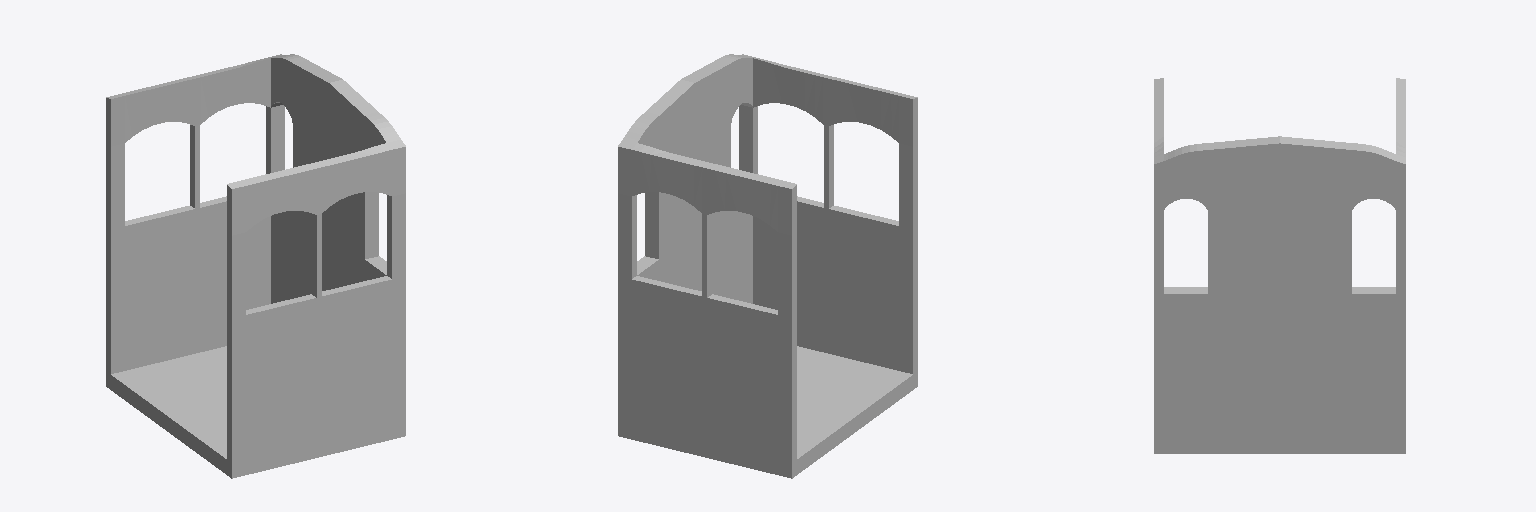
Rendered from trainBody1.obj.
3 renders of one model, left to right at view 1: azimuth 30°, elevation 25°; view 2: azimuth 150°, elevation 25°; view 3: azimuth 270°, elevation 25°, orthographic.
Visible parts, largest first — view 1: Cube.001; view 2: Cube.001; view 3: Cube.001.
Boxes of the visible parts, <box> form: Cube.001: <box>106,54,405,478</box>; Cube.001: <box>618,54,917,478</box>; Cube.001: <box>1154,78,1405,453</box>.
Size of the model in its own units: 0.5917 by 1.01 by 0.7415.